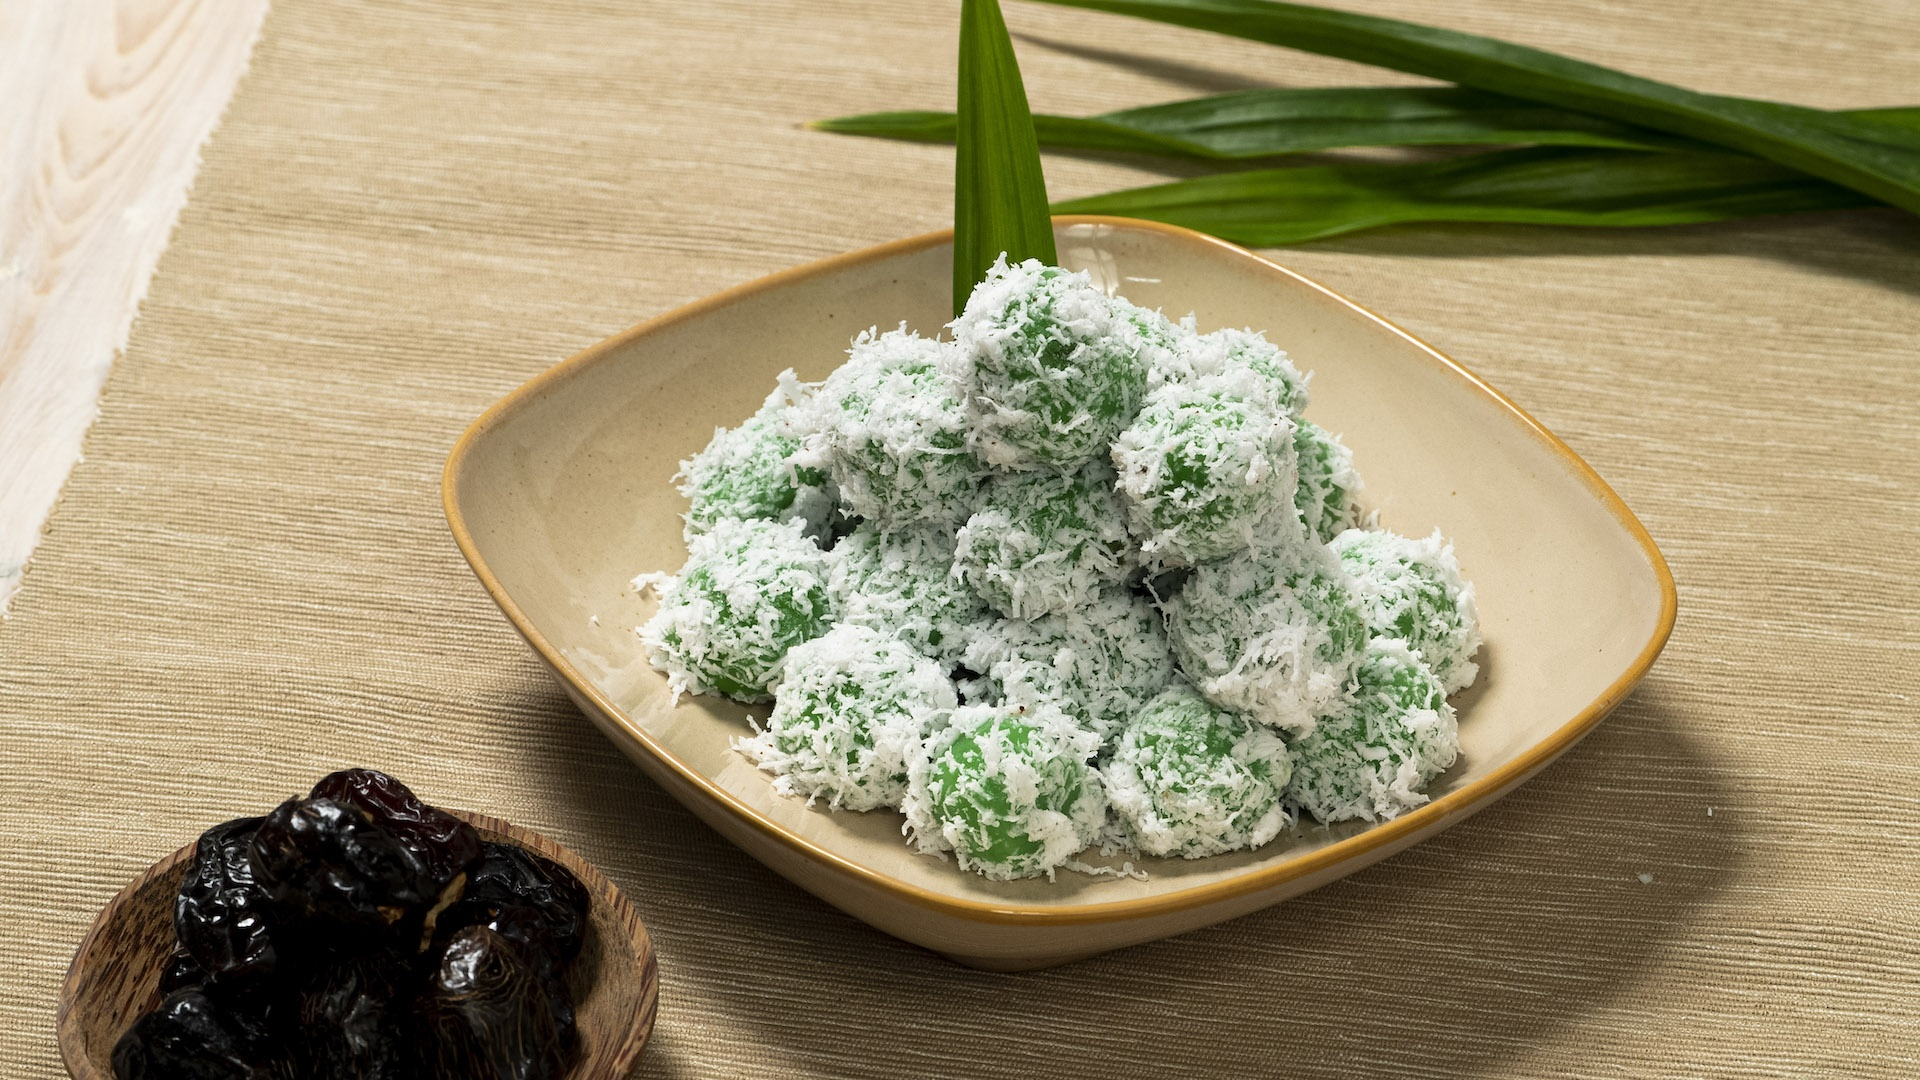klepon: (949, 274, 1171, 477), (1102, 386, 1323, 564), (935, 684, 1100, 876)
